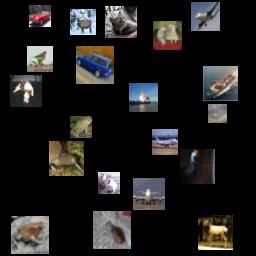airplane: (133, 178, 165, 210), (191, 2, 220, 31), (152, 129, 178, 155)
automobile: (76, 46, 114, 84), (29, 5, 51, 27)
bird: (180, 149, 215, 184), (49, 141, 84, 176), (27, 46, 53, 72)
cat: (105, 6, 137, 38)
deer: (93, 211, 131, 249), (198, 215, 233, 250), (70, 9, 96, 35), (208, 104, 227, 123)
dog: (10, 75, 42, 107), (153, 21, 182, 50), (98, 172, 120, 194)
frog: (11, 216, 49, 254), (70, 116, 92, 138)
ship: (203, 66, 238, 101), (129, 83, 158, 112)
